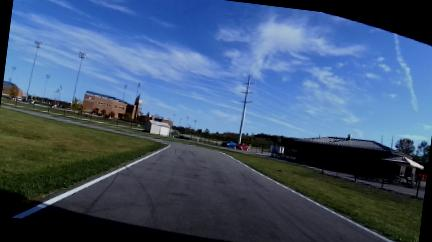Grass: (113, 128, 423, 241), (228, 153, 423, 241), (0, 109, 164, 211)
Lane: (24, 140, 385, 241)
